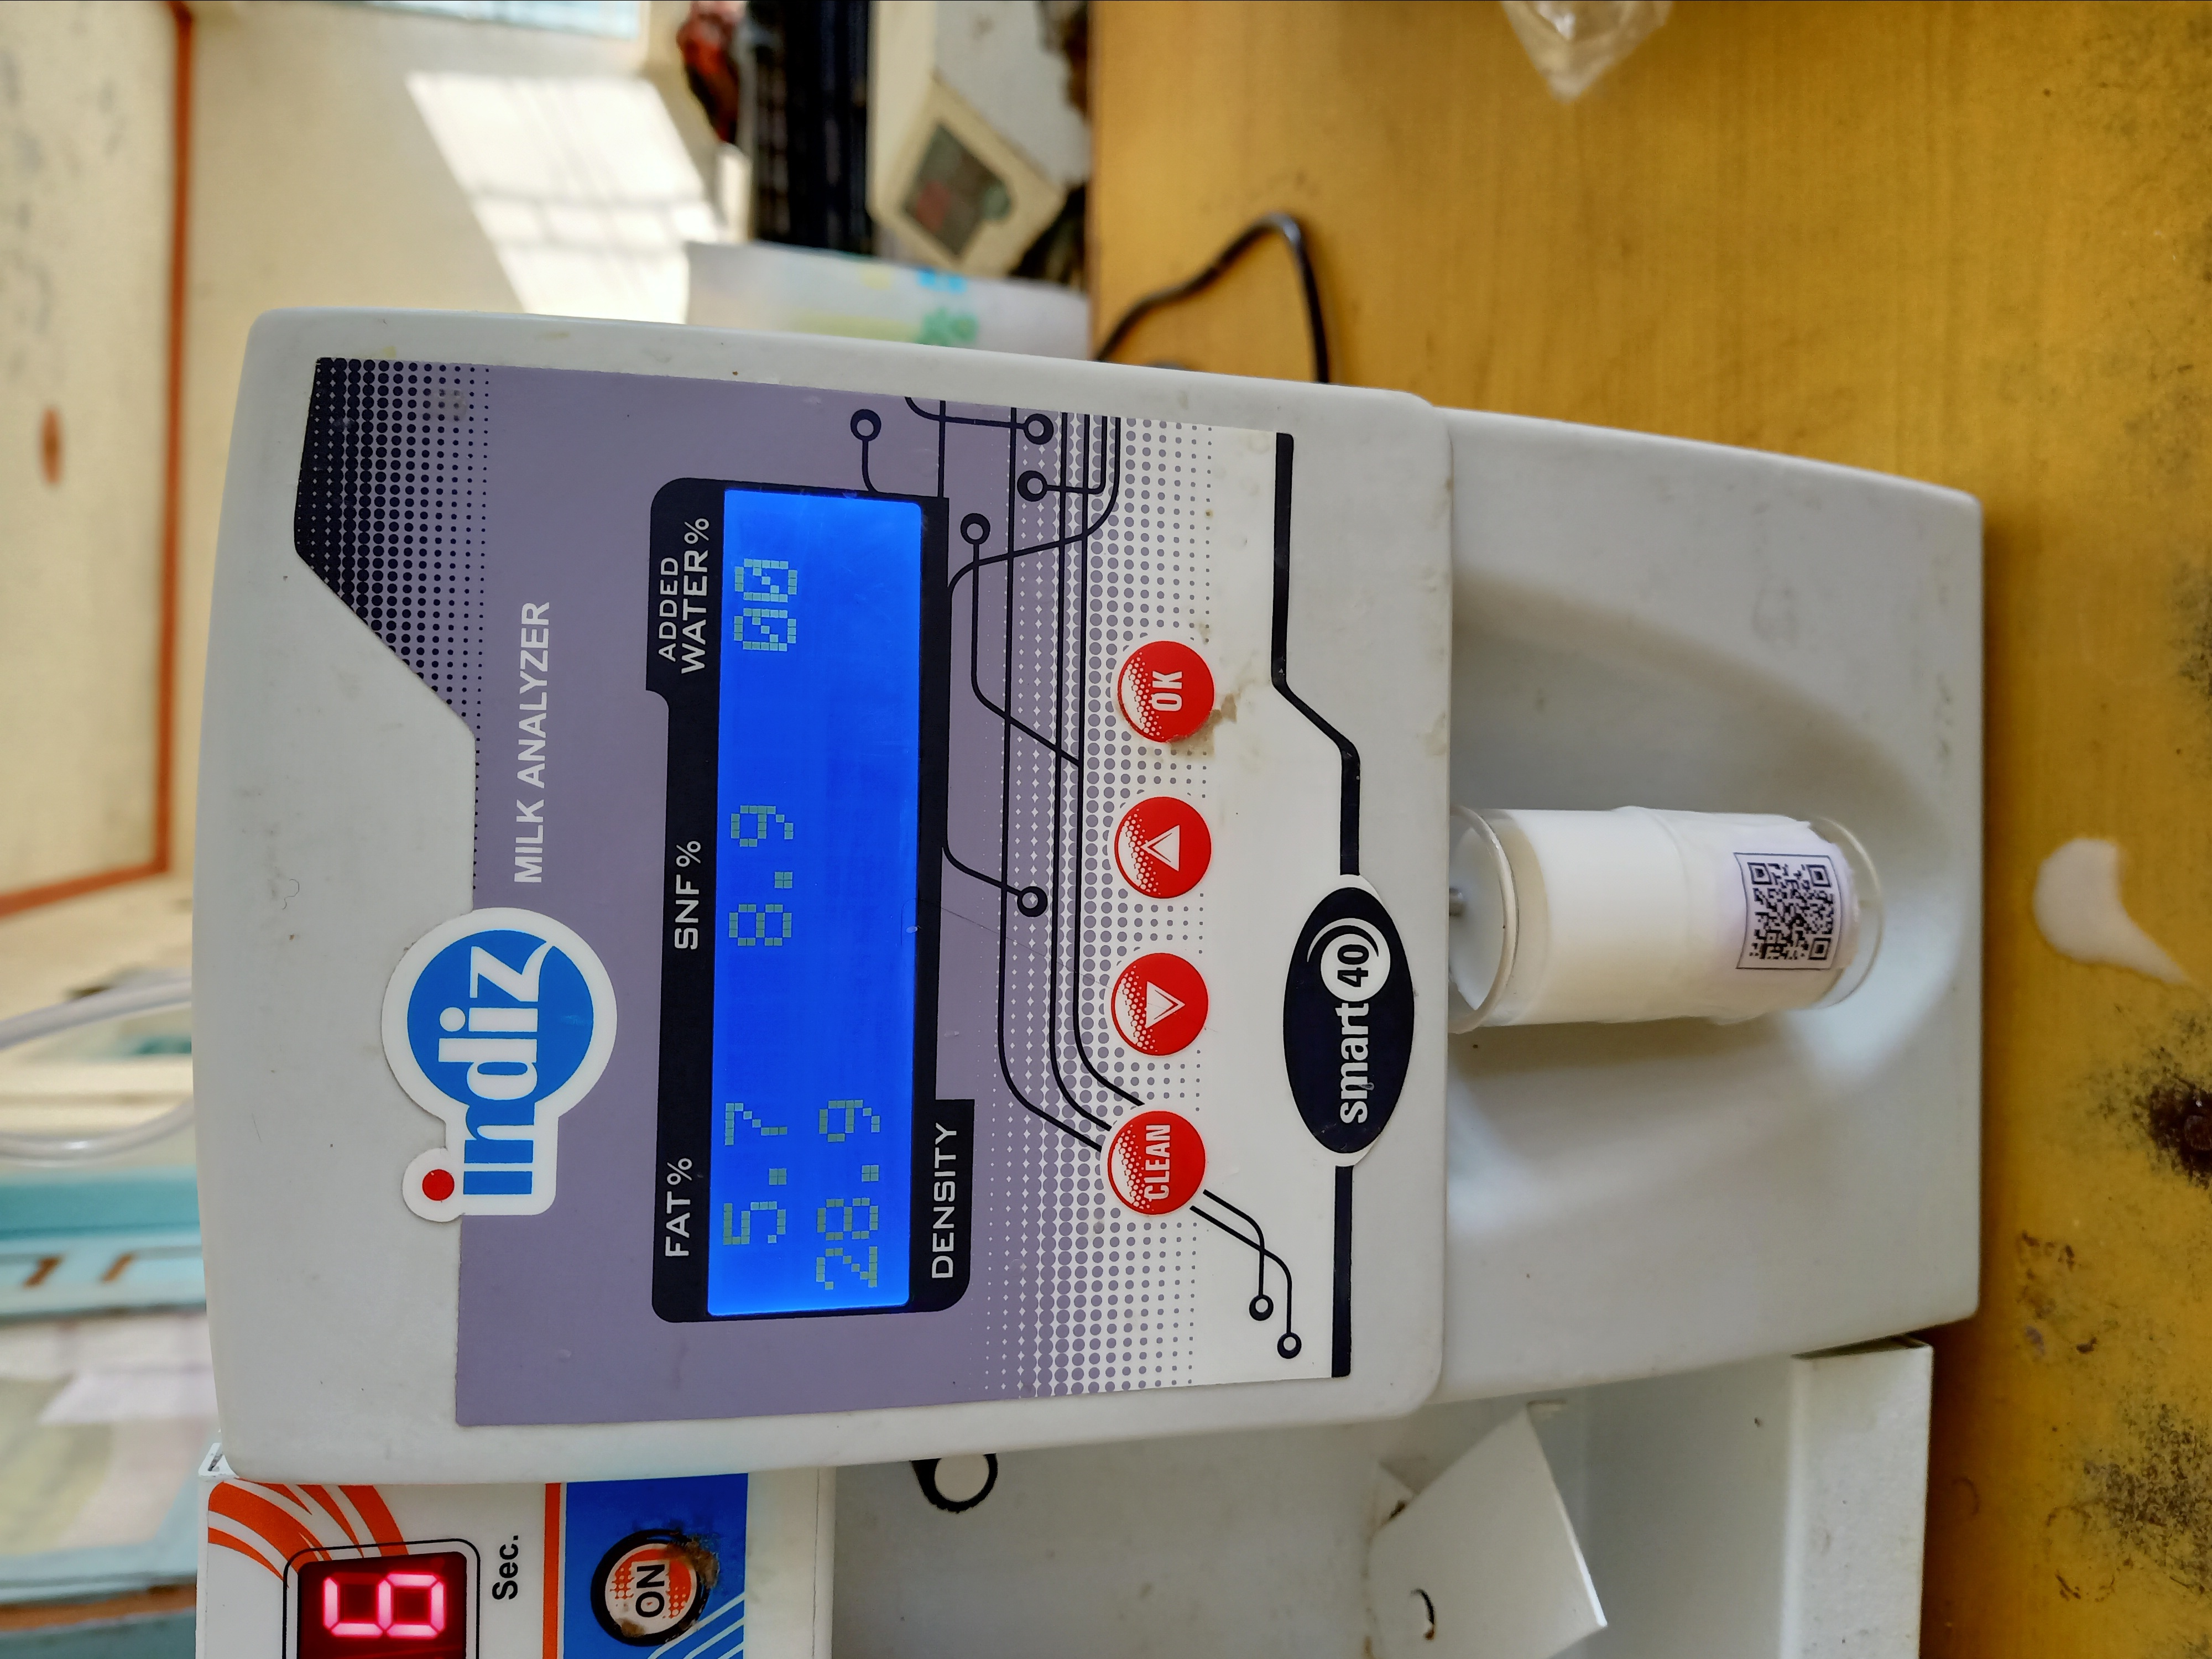lcd: (639, 471, 979, 1335)
qr: (1730, 836, 1851, 985)
